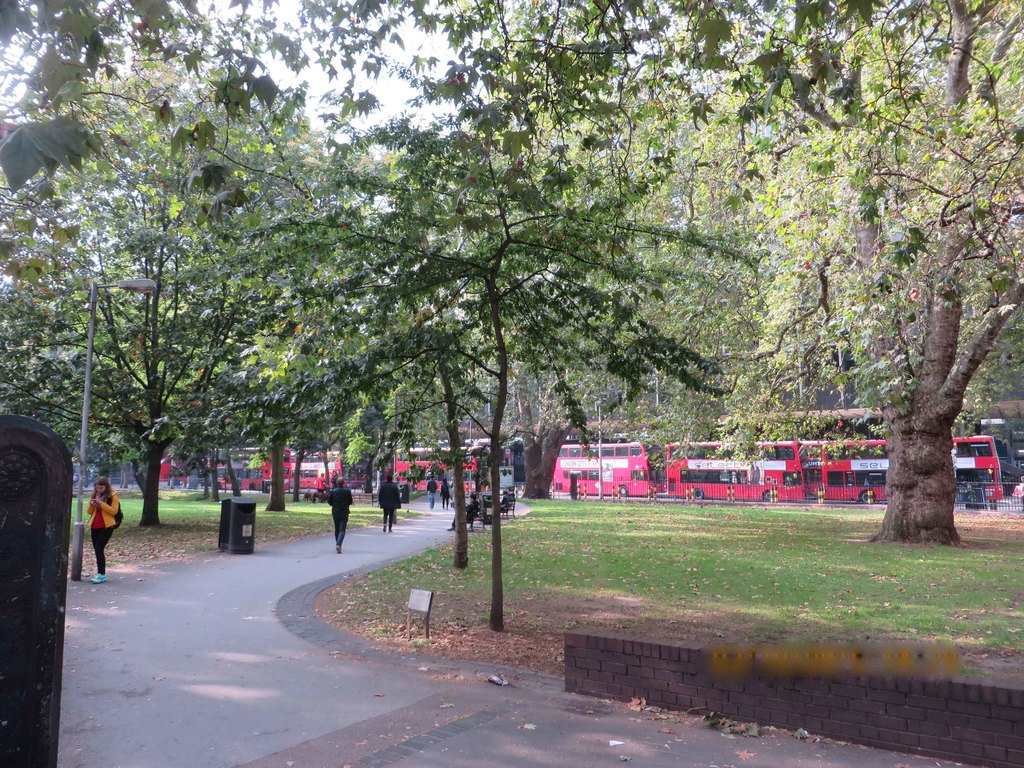Tree: (0, 0, 1023, 648), (32, 156, 352, 530)
